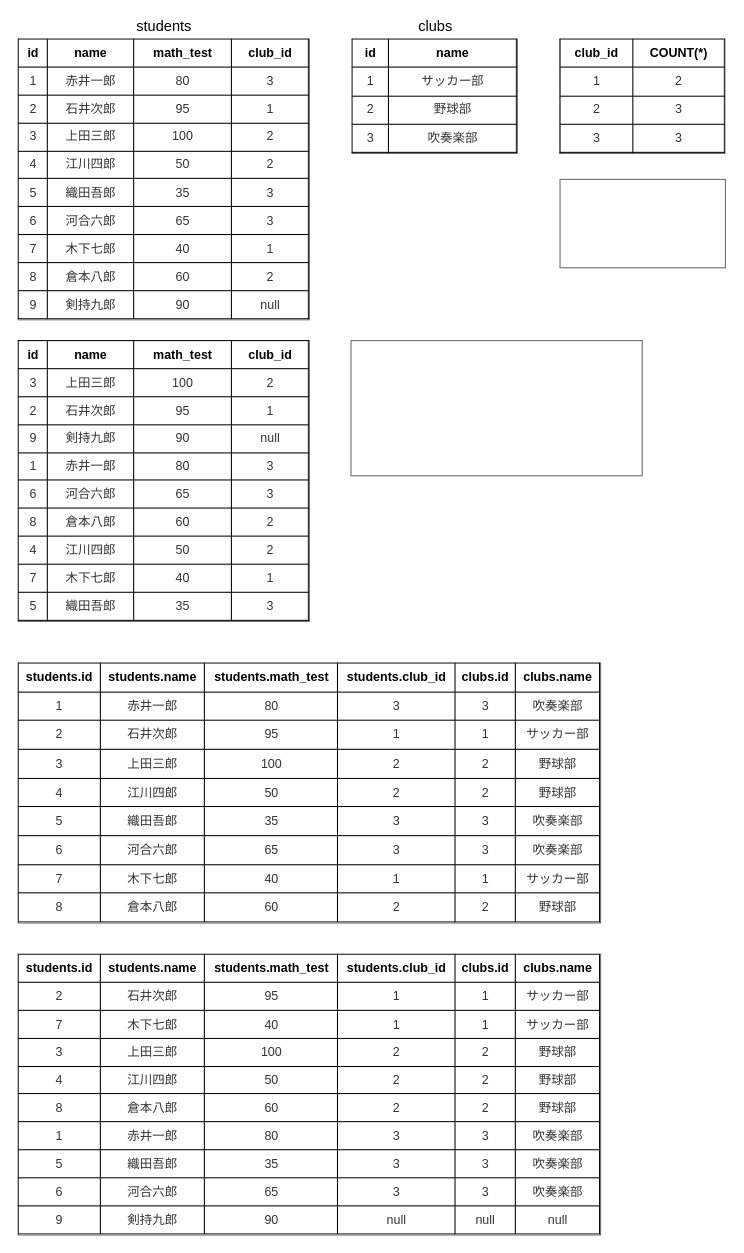
Some shapes in this 744 by 1253 pixel diagram are drawn without their labels. Each missing label, with the centre of its shape:
"club_id COUNT(*) 2 3 3 3" belongs at [642,223].
"id name math_test club_id 1 赤井一郎 80 3 2 石井次郎 95 1 3 上田三郎 100 2 9 剣持九郎 90 null" belongs at [496,408].
